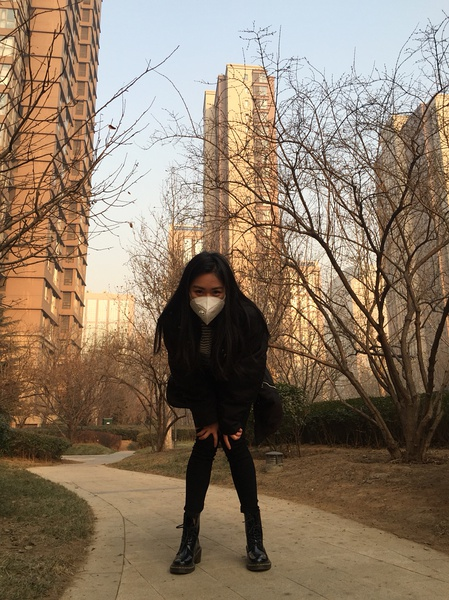face_mask: (189, 272, 224, 323)
